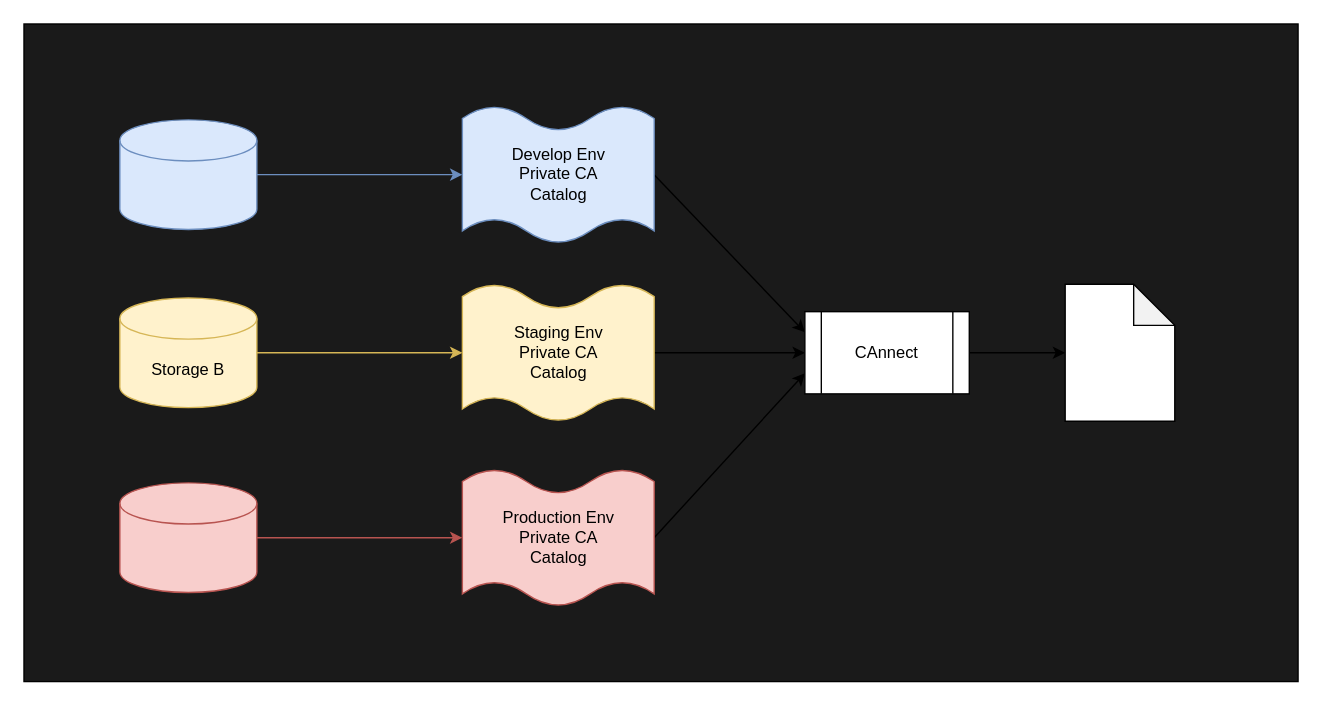
This 1322x706 diagram has some shape labels left out. Here are the shapes that lost their labels. From the top down, the box of each, then its label:
(119, 119, 257, 229): Storage A
(1064, 283, 1175, 421): CA Asset User Order
(119, 482, 257, 593): Storage C
